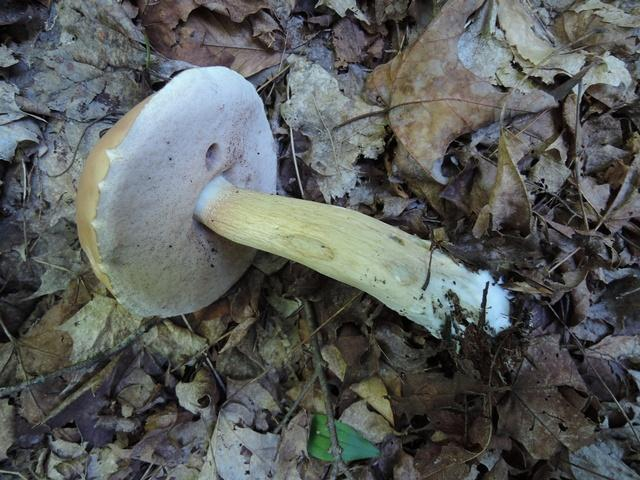Non-edible Mushroom: (74, 63, 516, 348)
